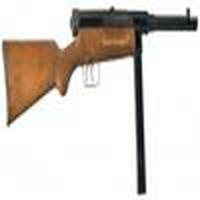gun: (1, 4, 200, 120)
